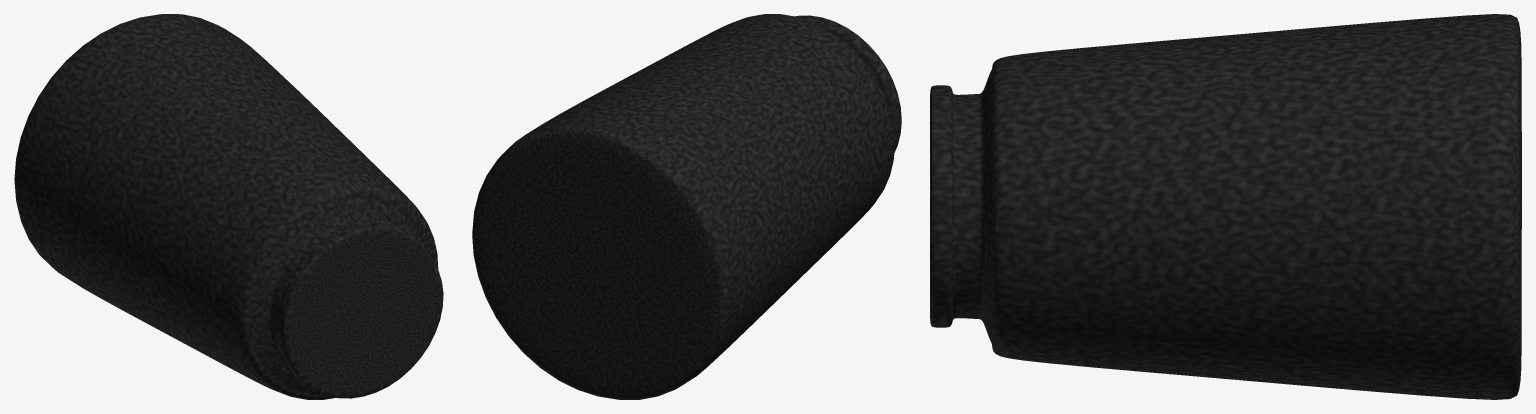
The picture shows the model from 3 angles, left to right: view 1: azimuth 30°, elevation 25°; view 2: azimuth 150°, elevation 25°; view 3: azimuth 270°, elevation 25°; orthographic projection. The views are drawn at different scales.
Bounding box in the file's own units: 0.5535 × 0.5518 × 0.8463.
